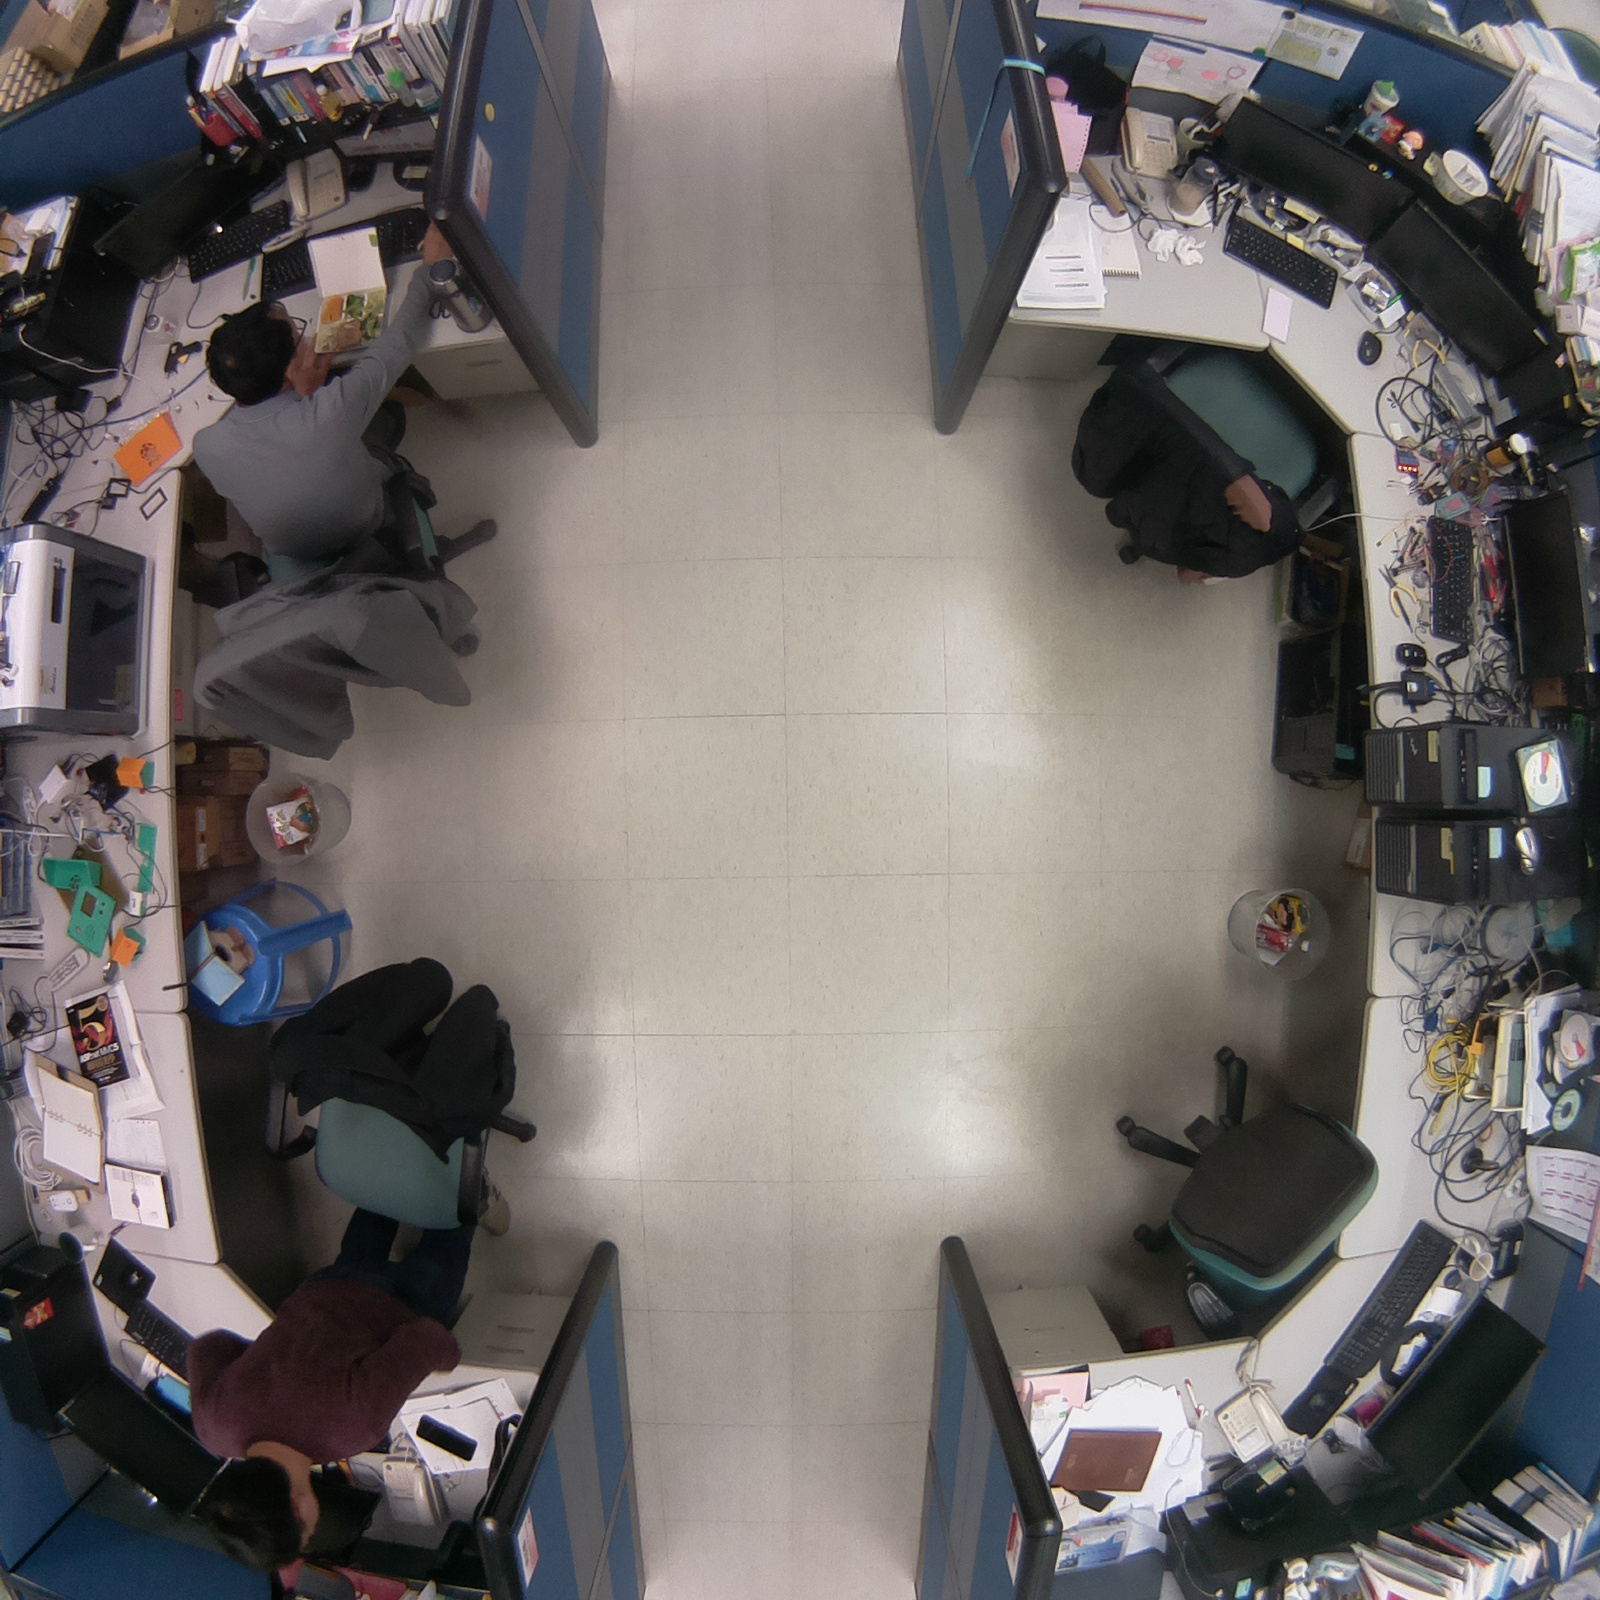chair: (253, 932, 558, 1252), (1083, 1034, 1388, 1350), (1045, 327, 1353, 596)
head: (189, 1444, 323, 1582), (200, 295, 321, 408)
sitting: (168, 211, 506, 773)
standing: (173, 1142, 535, 1578)
